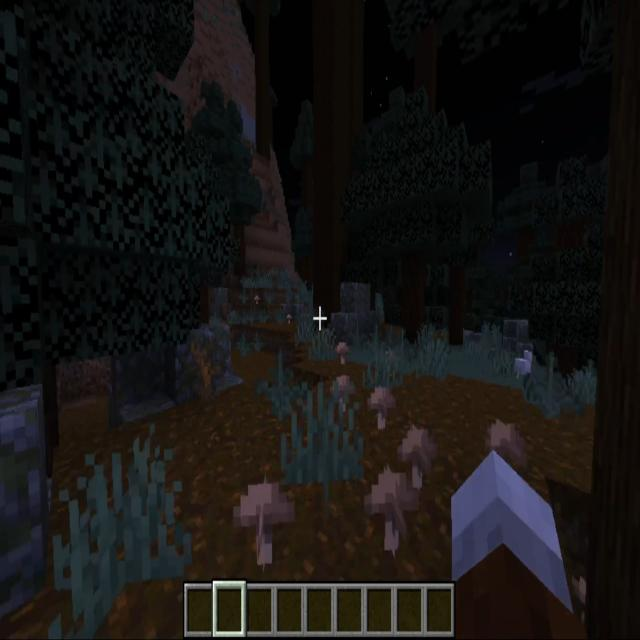Chicken: (513, 348, 534, 383)
